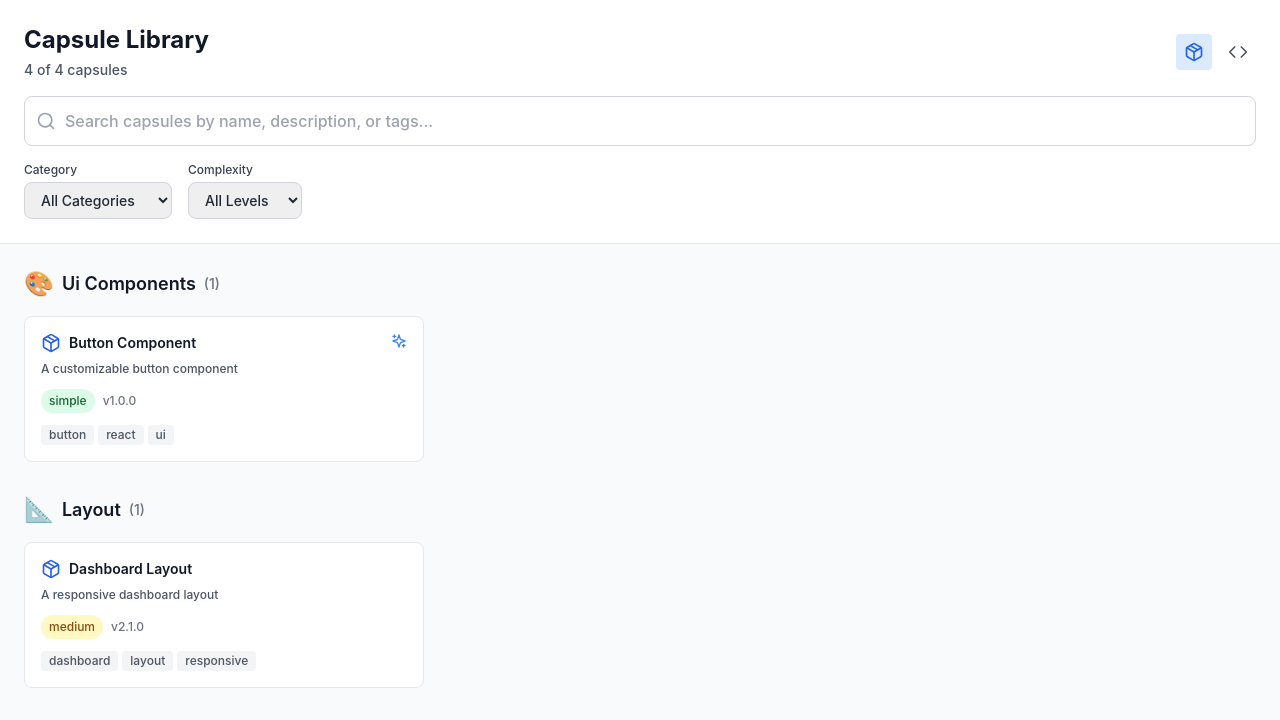
Test: CapsuleBrowser › search functionality › should filter capsules by name
The width and height of the screenshot is (1280, 720).
Type "button" into the field with placeholder "Search capsules by name, description, or tags...". click: (640,121)
box: x1=24 y1=96 x2=1256 y2=146
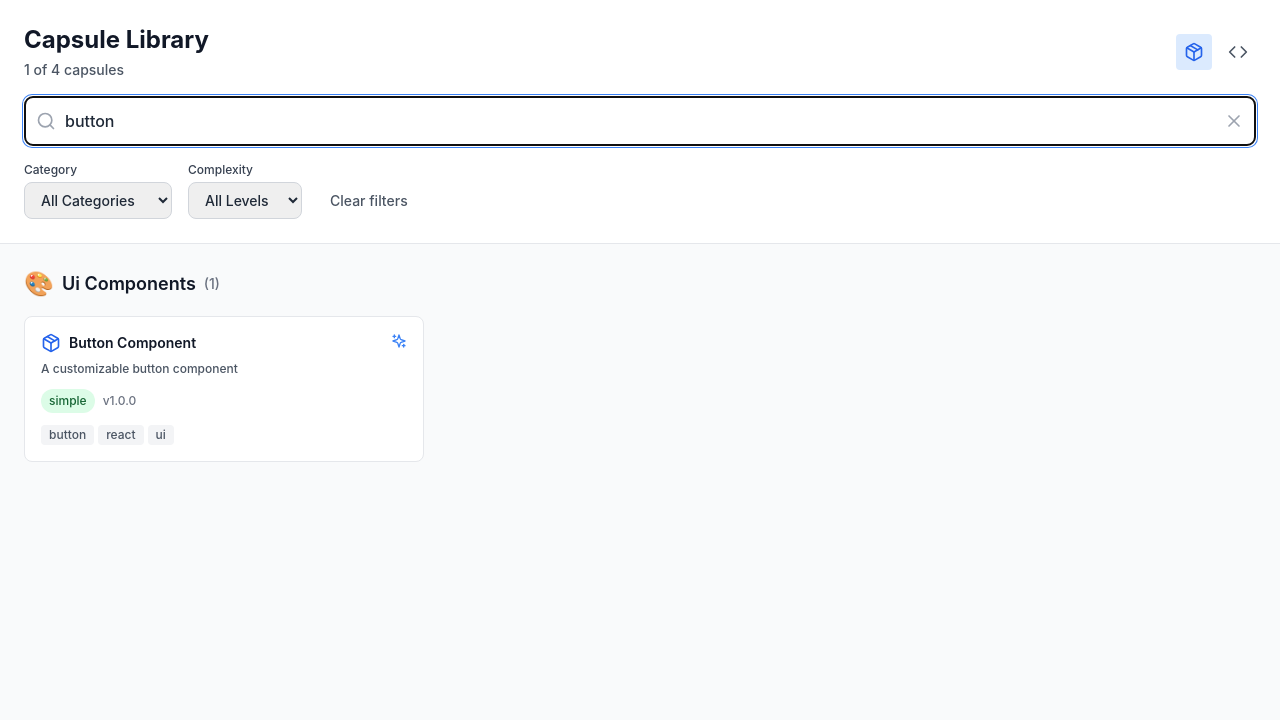
Expected: the heading "Button Component" is shown, x1=69 y1=333 x2=196 y2=353
Now the heading "Dashboard Layout" is gone
